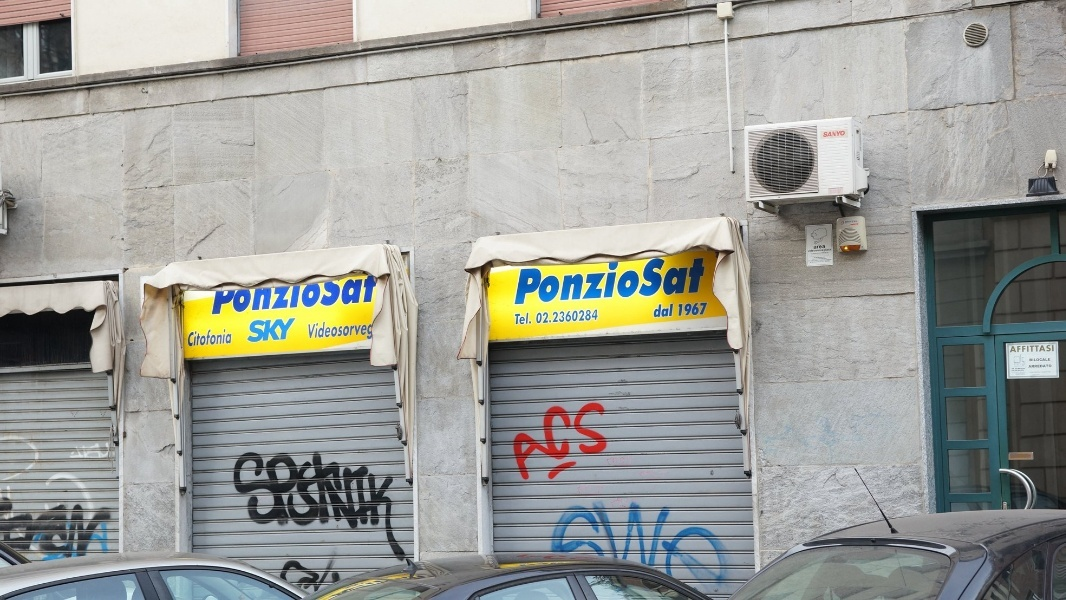text: (225, 436, 240, 559), (241, 436, 256, 559), (257, 436, 272, 559), (273, 436, 288, 559), (289, 436, 304, 559), (305, 436, 320, 559), (321, 436, 336, 559), (337, 436, 352, 559), (353, 436, 368, 559), (369, 436, 384, 559), (385, 436, 400, 559), (513, 381, 528, 496), (529, 381, 544, 496), (545, 381, 560, 496), (561, 381, 576, 496), (577, 381, 592, 496), (593, 381, 608, 496), (609, 381, 624, 496), (577, 500, 592, 599), (593, 500, 608, 599), (609, 500, 624, 599), (625, 500, 640, 599), (641, 500, 656, 599), (657, 500, 672, 599), (673, 500, 688, 599), (689, 500, 704, 599), (705, 500, 720, 599), (721, 500, 736, 599), (564, 500, 576, 599), (97, 495, 113, 567), (1, 495, 16, 567), (17, 495, 32, 567), (33, 495, 48, 567), (49, 495, 64, 567), (65, 495, 80, 567), (81, 495, 96, 567), (737, 500, 747, 599), (529, 257, 544, 305), (545, 257, 560, 305), (561, 257, 576, 305), (577, 257, 592, 305), (593, 257, 608, 305), (609, 257, 624, 305), (625, 257, 640, 305), (641, 257, 656, 305), (657, 257, 672, 305), (673, 257, 688, 305), (689, 257, 704, 305), (401, 436, 406, 559), (225, 275, 240, 316), (241, 275, 256, 316), (257, 275, 272, 316), (273, 275, 288, 316), (289, 275, 304, 316), (305, 275, 320, 316), (321, 275, 336, 316), (337, 275, 352, 316), (353, 275, 368, 316), (220, 436, 224, 559), (257, 317, 272, 344), (273, 317, 288, 344), (521, 257, 528, 305), (216, 275, 224, 316), (369, 275, 377, 316), (193, 328, 208, 347), (209, 328, 224, 347), (321, 321, 336, 339), (337, 321, 352, 339), (353, 321, 368, 339), (529, 308, 544, 326), (545, 308, 560, 326), (561, 308, 576, 326), (577, 308, 592, 326), (657, 302, 672, 319), (514, 308, 528, 326), (289, 317, 298, 344), (307, 321, 320, 339), (689, 302, 704, 317), (250, 317, 256, 344), (678, 302, 688, 317), (1025, 344, 1040, 354), (1041, 344, 1055, 354), (225, 328, 232, 347), (1011, 344, 1024, 354), (511, 381, 512, 496), (833, 130, 847, 138), (593, 308, 599, 326), (705, 257, 707, 305), (817, 257, 831, 263), (188, 328, 192, 347), (705, 302, 710, 317), (369, 321, 373, 339), (824, 130, 832, 138), (849, 220, 859, 226), (817, 244, 827, 250), (817, 249, 832, 253), (808, 257, 816, 263), (1029, 358, 1040, 362), (1041, 364, 1052, 368), (1041, 358, 1051, 362), (1030, 364, 1040, 368), (1011, 368, 1024, 371), (654, 302, 656, 319), (808, 249, 816, 253), (845, 220, 848, 226), (673, 302, 674, 319), (814, 244, 816, 250)
